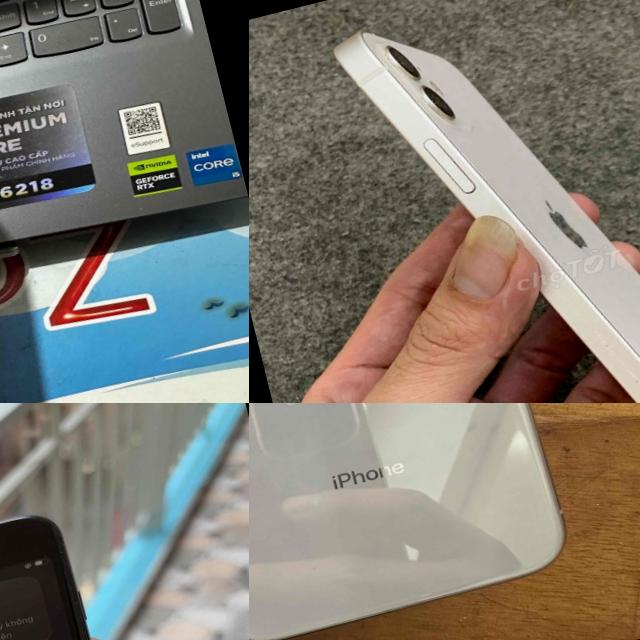gen_12_13: (317, 0, 640, 403)
gen_7_8: (0, 498, 175, 640)
gen_x_xs: (249, 403, 563, 640)
